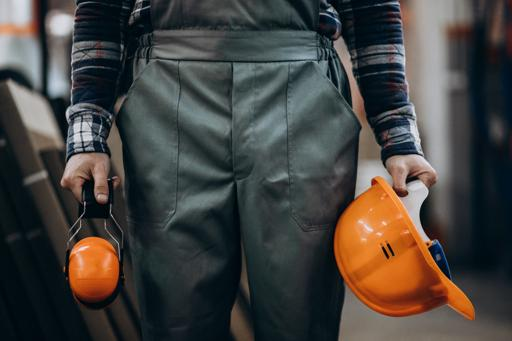hard hat: (333, 182, 479, 328)
